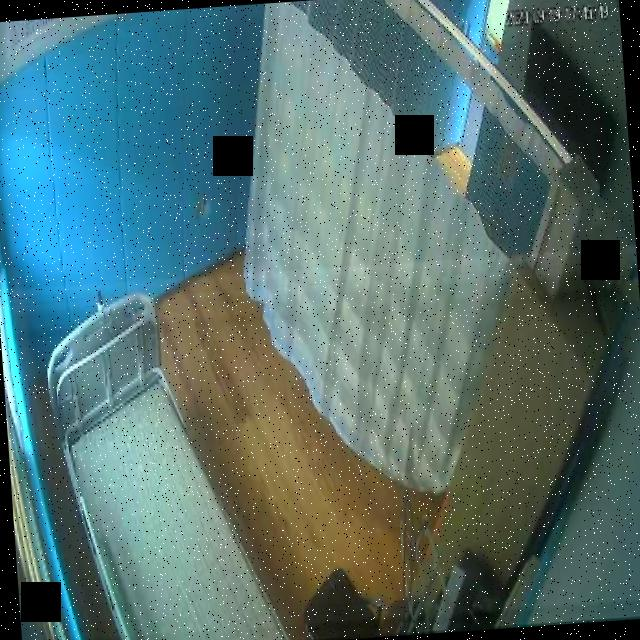bed: (40, 282, 290, 640)
